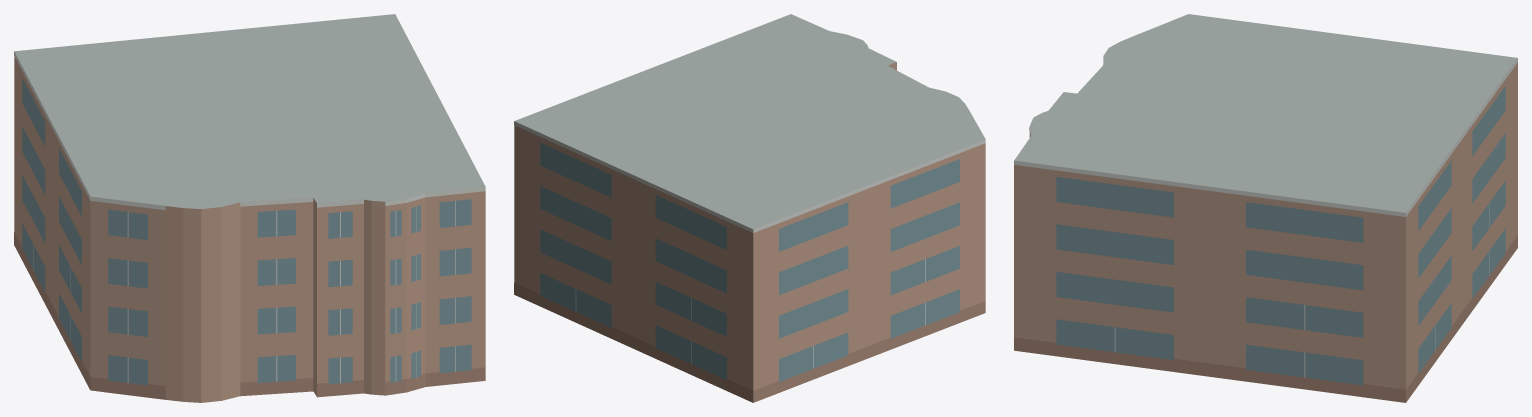
File: survey-upis-32880911.glb
The picture shows the model from 3 angles, left to right: view 1: azimuth 30°, elevation 25°; view 2: azimuth 150°, elevation 25°; view 3: azimuth 270°, elevation 25°; orthographic projection. The views are drawn at different scales.
Parts seen in each view (by area): view 1: survey-upis-32880911.tmp; view 2: survey-upis-32880911.tmp; view 3: survey-upis-32880911.tmp.
Boxes of the visible parts, box(x1,y1,x2,y2) form: survey-upis-32880911.tmp: box(14, 14, 485, 402); survey-upis-32880911.tmp: box(514, 14, 985, 402); survey-upis-32880911.tmp: box(1014, 14, 1517, 402).
Bounding box in the file's own units: 24.7 × 11 × 26.44.
